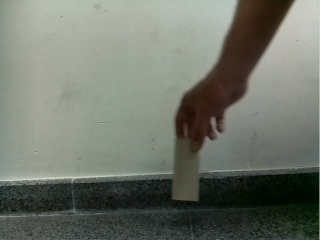rollo papel: (170, 138, 201, 202)
